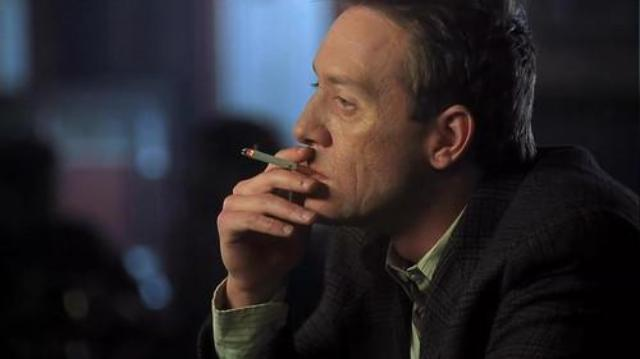SafeDriving: (326, 82, 368, 121)
Smoking: (237, 145, 313, 173)
